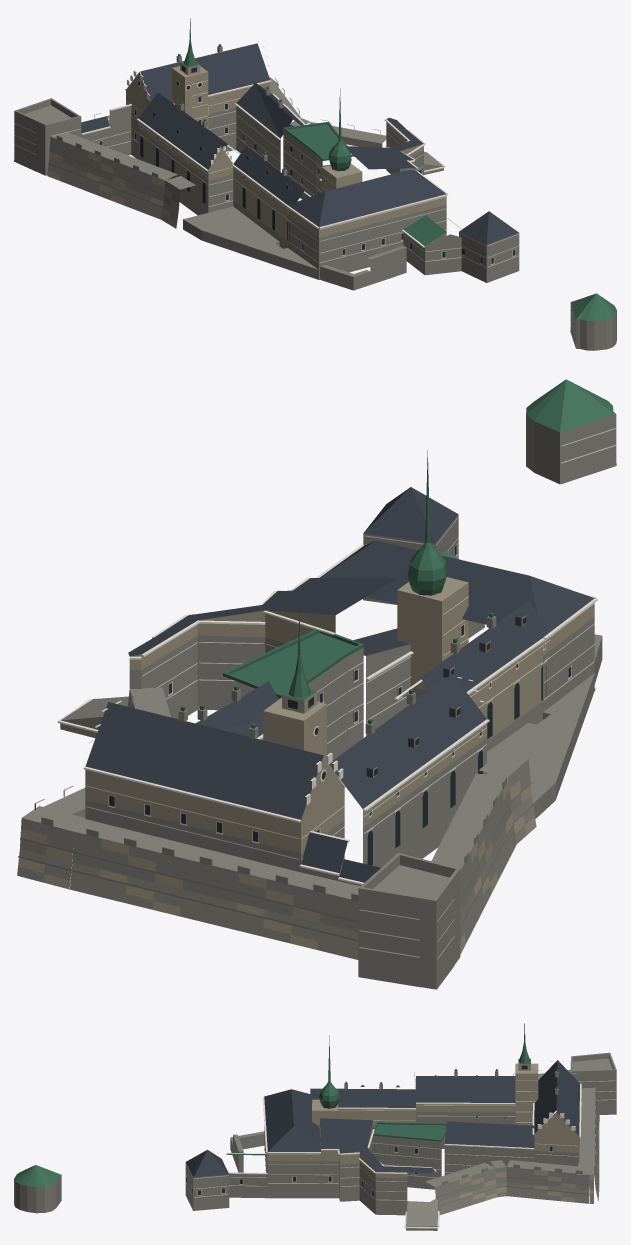
The model's file is akershus-fortress-far.glb.
3 renders of one model, top to bottom at view 1: azimuth 30°, elevation 25°; view 2: azimuth 150°, elevation 25°; view 3: azimuth 270°, elevation 25°, orthographic. The views are drawn at different scales.
Visible parts, largest first — view 1: akershus-fortress-0-stone, akershus-fortress-0-slate, akershus-fortress-0-render, akershus-fortress-0-trim, akershus-fortress-0-copper, akershus-fortress-0-glow; view 2: akershus-fortress-0-stone, akershus-fortress-0-slate, akershus-fortress-0-render, akershus-fortress-0-copper, akershus-fortress-0-trim, akershus-fortress-0-glow, akershus-fortress-0-glass; view 3: akershus-fortress-0-stone, akershus-fortress-0-slate, akershus-fortress-0-render, akershus-fortress-0-trim, akershus-fortress-0-copper.
Boxes of the visible parts, box(x1,y1,x2,y2) form: akershus-fortress-0-stone: box(14, 46, 616, 350); akershus-fortress-0-slate: box(81, 43, 518, 244); akershus-fortress-0-render: box(47, 63, 446, 240); akershus-fortress-0-trim: box(14, 41, 574, 331); akershus-fortress-0-copper: box(178, 18, 616, 321); akershus-fortress-0-glow: box(99, 96, 515, 263); akershus-fortress-0-stone: box(17, 414, 616, 989); akershus-fortress-0-slate: box(85, 487, 594, 882); akershus-fortress-0-render: box(18, 577, 594, 954); akershus-fortress-0-copper: box(180, 379, 615, 728); akershus-fortress-0-trim: box(57, 428, 615, 959); akershus-fortress-0-glow: box(109, 545, 546, 865); akershus-fortress-0-glass: box(145, 625, 570, 832); akershus-fortress-0-stone: box(14, 1052, 616, 1230); akershus-fortress-0-slate: box(186, 1060, 579, 1177); akershus-fortress-0-render: box(267, 1063, 599, 1202); akershus-fortress-0-trim: box(185, 1061, 616, 1228); akershus-fortress-0-copper: box(14, 1023, 557, 1187).
Bounding box in the file's own units: 78.09 × 36 × 148.
